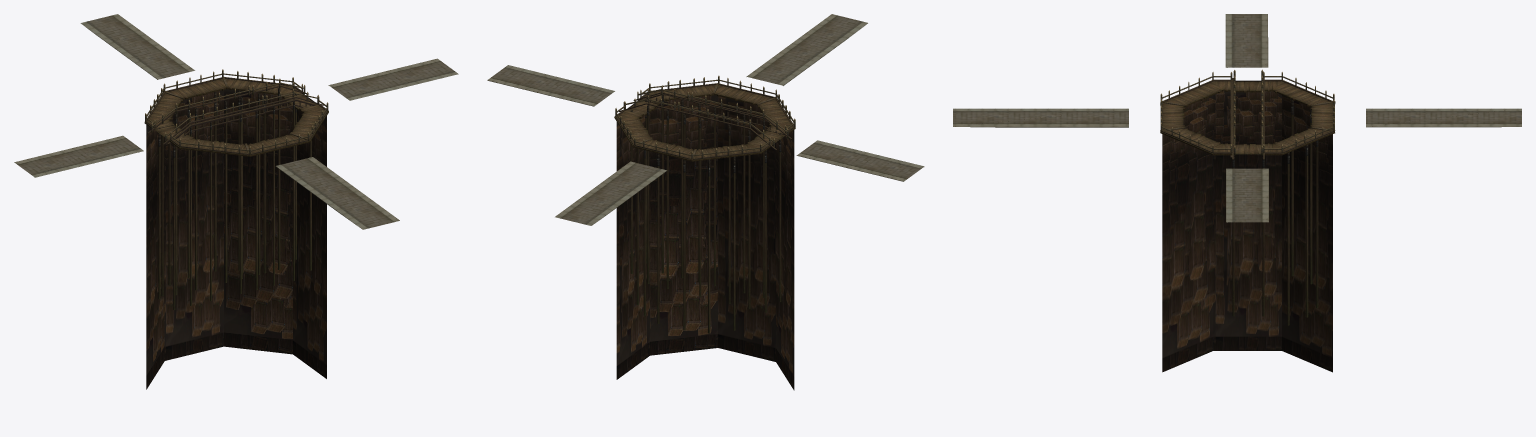
The model's file is yw_erengu_zhongxintaizi01.FBX.
3 views of the same model, side by side, from view 1: azimuth 30°, elevation 25°; view 2: azimuth 150°, elevation 25°; view 3: azimuth 270°, elevation 25° (orthographic). The views are drawn at different scales.
Parts seen in each view (by area): view 1: yw_erengu_zhongxintaizi01; view 2: yw_erengu_zhongxintaizi01; view 3: yw_erengu_zhongxintaizi01.
Boxes of the visible parts, box(x1,y1,x2,y2) form: yw_erengu_zhongxintaizi01: box(14, 14, 458, 389); yw_erengu_zhongxintaizi01: box(487, 14, 924, 390); yw_erengu_zhongxintaizi01: box(953, 14, 1521, 372).
Bounding box in the file's own units: 6707 × 4379 × 7741.
3 materials, 3 textured.
